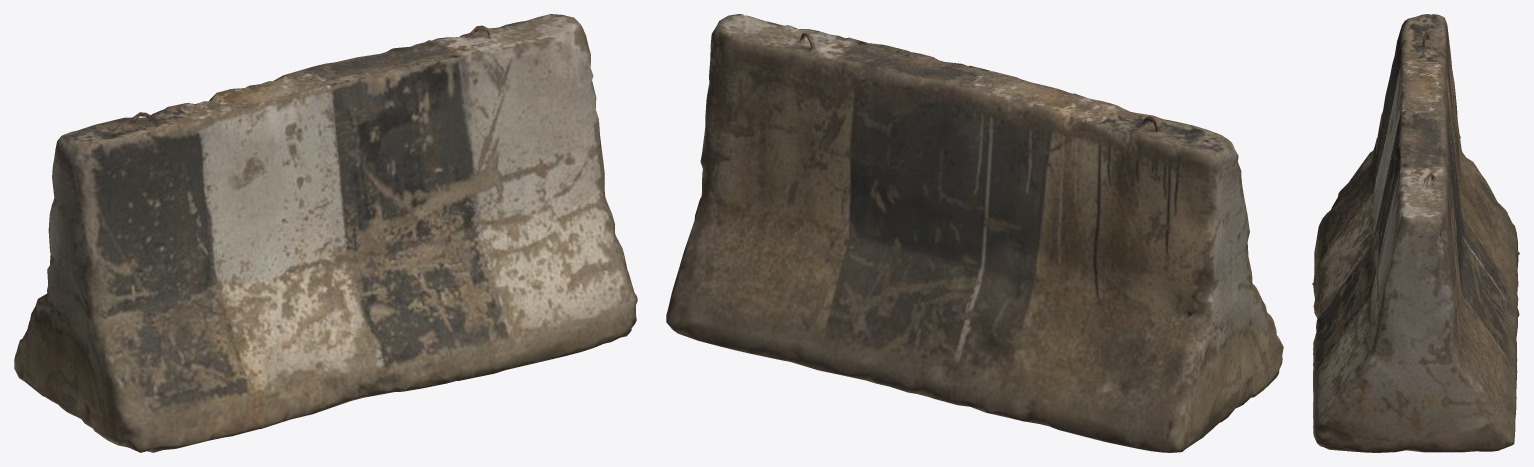
File: barrier_a-Dpgf6rPw.glb
3 views of the same model, side by side, from view 1: azimuth 30°, elevation 25°; view 2: azimuth 150°, elevation 25°; view 3: azimuth 270°, elevation 25° (orthographic). The views are drawn at different scales.
Parts seen in each view (by area): view 1: concrete_road_barrier; view 2: concrete_road_barrier; view 3: concrete_road_barrier.
Part boxes in pixels (x1=…): concrete_road_barrier: x1=14, y1=14, x2=637, y2=452; concrete_road_barrier: x1=666, y1=14, x2=1283, y2=452; concrete_road_barrier: x1=1312, y1=14, x2=1519, y2=452.
Bounding box in the file's own units: 1.54 × 0.8304 × 0.6387.
Materials: 1 (1 with a texture image).
